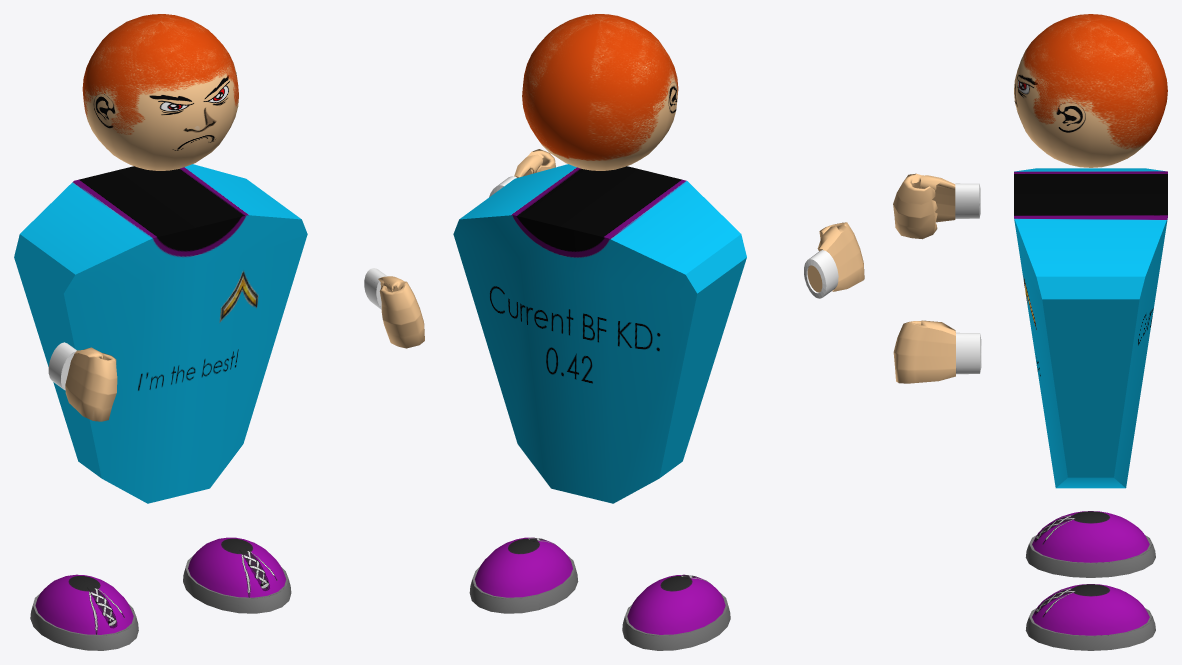
The model's file is Character_Red.obj.
3 renders of one model, left to right at view 1: azimuth 30°, elevation 25°; view 2: azimuth 150°, elevation 25°; view 3: azimuth 270°, elevation 25°, orthographic. The views are drawn at different scales.
Parts seen in each view (by area): view 1: Character_Red; view 2: Character_Red; view 3: Character_Red.
Boxes of the visible parts, x1,y1,x2,y2 form: Character_Red: (14, 14, 424, 650); Character_Red: (453, 14, 864, 650); Character_Red: (893, 14, 1167, 650).
Size of the model in its own units: 1.26 by 2.05 by 0.8921.
4 materials, 4 textured.
